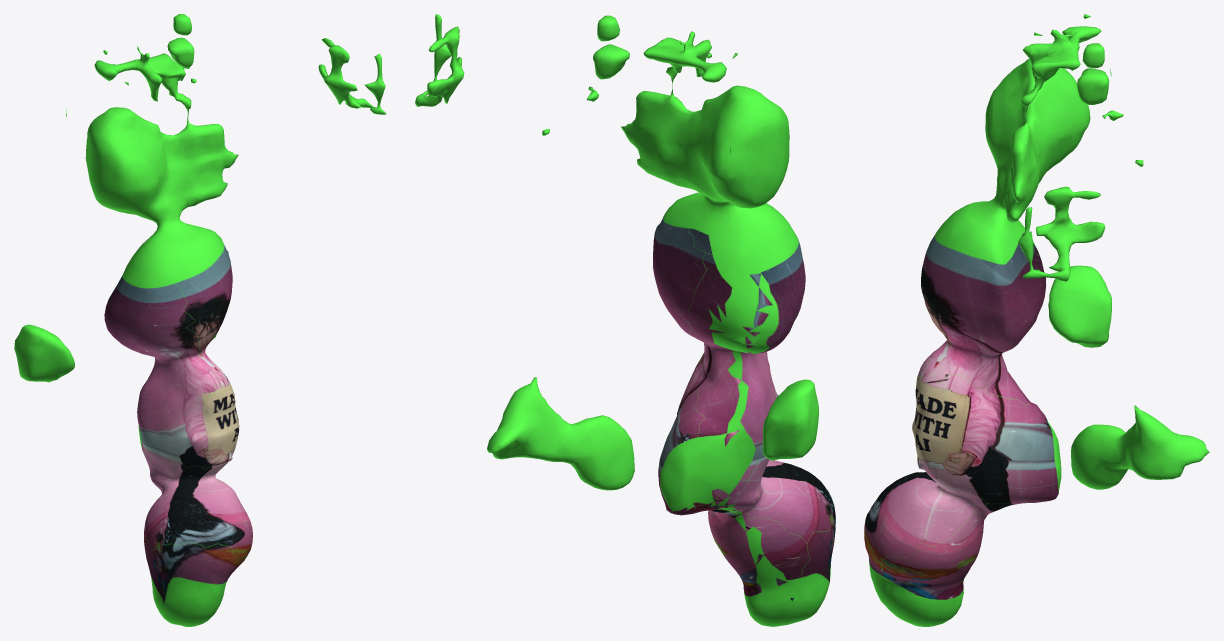
The model's file is glass2.glb.
3 views of the same model, side by side, from view 1: azimuth 30°, elevation 25°; view 2: azimuth 150°, elevation 25°; view 3: azimuth 270°, elevation 25° (orthographic). The views are drawn at different scales.
Visible parts, largest first — view 1: lagrange_node; view 2: lagrange_node; view 3: lagrange_node.
Boxes of the visible parts, left/top/right/bottom form: lagrange_node: left=14, top=14, right=386, bottom=626; lagrange_node: left=415, top=14, right=835, bottom=626; lagrange_node: left=864, top=14, right=1209, bottom=626.
Bounding box in the file's own units: 0.7556 × 1.15 × 0.5801.
Materials: 1 (1 with a texture image).
